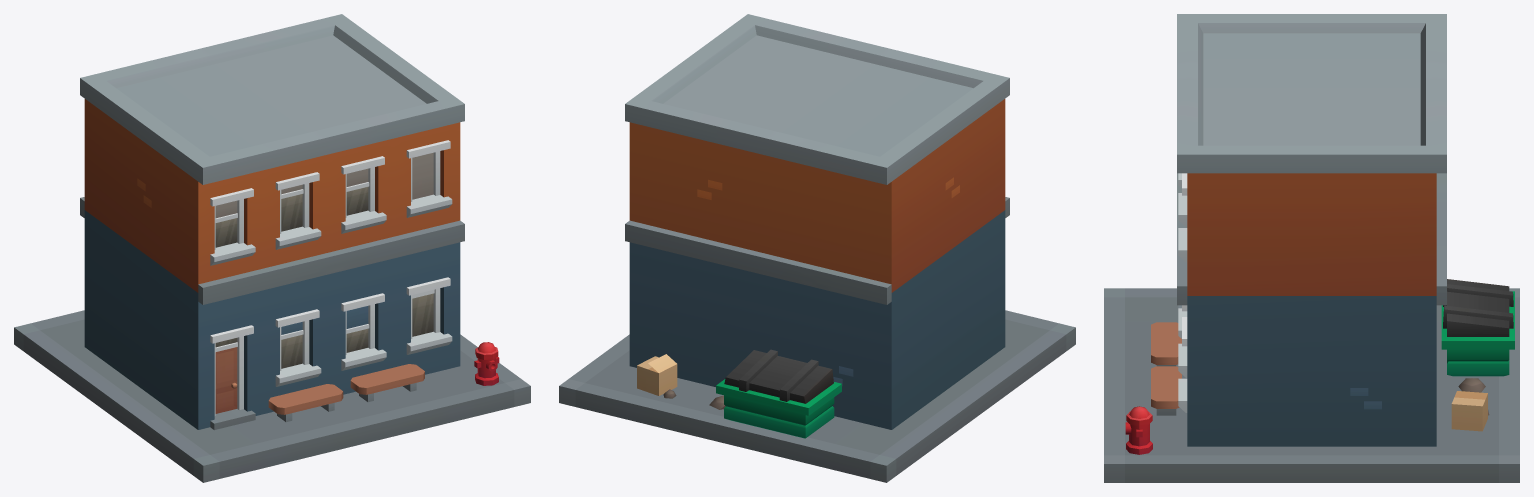
File: shop-orange.glb
The picture shows the model from 3 angles, left to right: view 1: azimuth 30°, elevation 25°; view 2: azimuth 150°, elevation 25°; view 3: azimuth 270°, elevation 25°; orthographic projection. The views are drawn at different scales.
Visible parts, largest first — view 1: building_B; view 2: building_B; view 3: building_B.
Boxes of the visible parts, <box> form: building_B: <box>14,14,530,482</box>; building_B: <box>559,14,1075,482</box>; building_B: <box>1104,14,1519,482</box>.
Bounding box in the file's own units: 2 × 1.65 × 2.
Materials: 1 (1 with a texture image).
